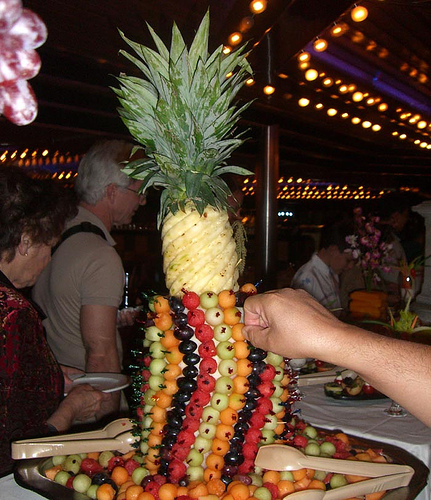pineapple: (114, 10, 255, 296)
